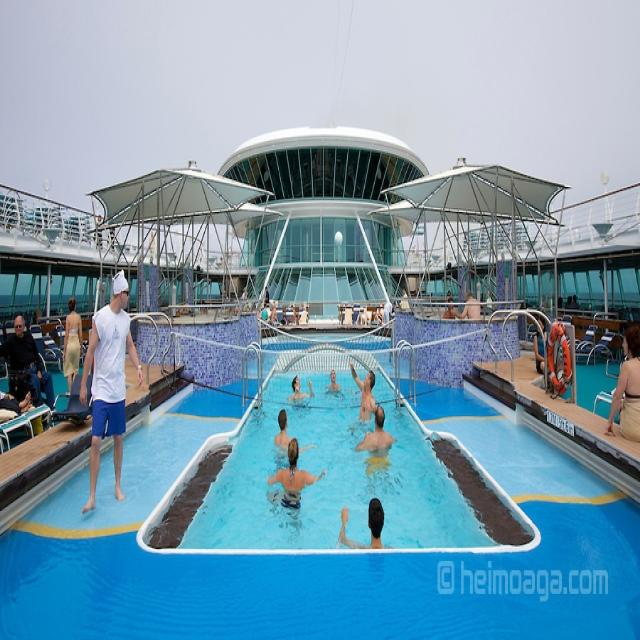body: (78, 266, 143, 515), (9, 313, 56, 427), (266, 436, 326, 510), (604, 321, 639, 445), (337, 497, 394, 549), (62, 294, 84, 399), (353, 404, 397, 453), (273, 407, 317, 454), (348, 358, 378, 423), (534, 314, 550, 376), (0, 385, 30, 416), (286, 372, 316, 402), (454, 287, 481, 320), (541, 292, 580, 314), (352, 304, 383, 325), (95, 212, 106, 250), (106, 215, 115, 254), (260, 300, 272, 328), (148, 229, 156, 270), (442, 296, 456, 319), (267, 299, 278, 327), (388, 299, 397, 332), (328, 367, 340, 390), (399, 287, 410, 311), (260, 285, 269, 312), (289, 302, 298, 326), (299, 300, 308, 324), (279, 303, 287, 328), (446, 259, 453, 286), (486, 291, 492, 317), (198, 242, 203, 273), (242, 283, 248, 302), (288, 314, 292, 326), (429, 290, 433, 296)
